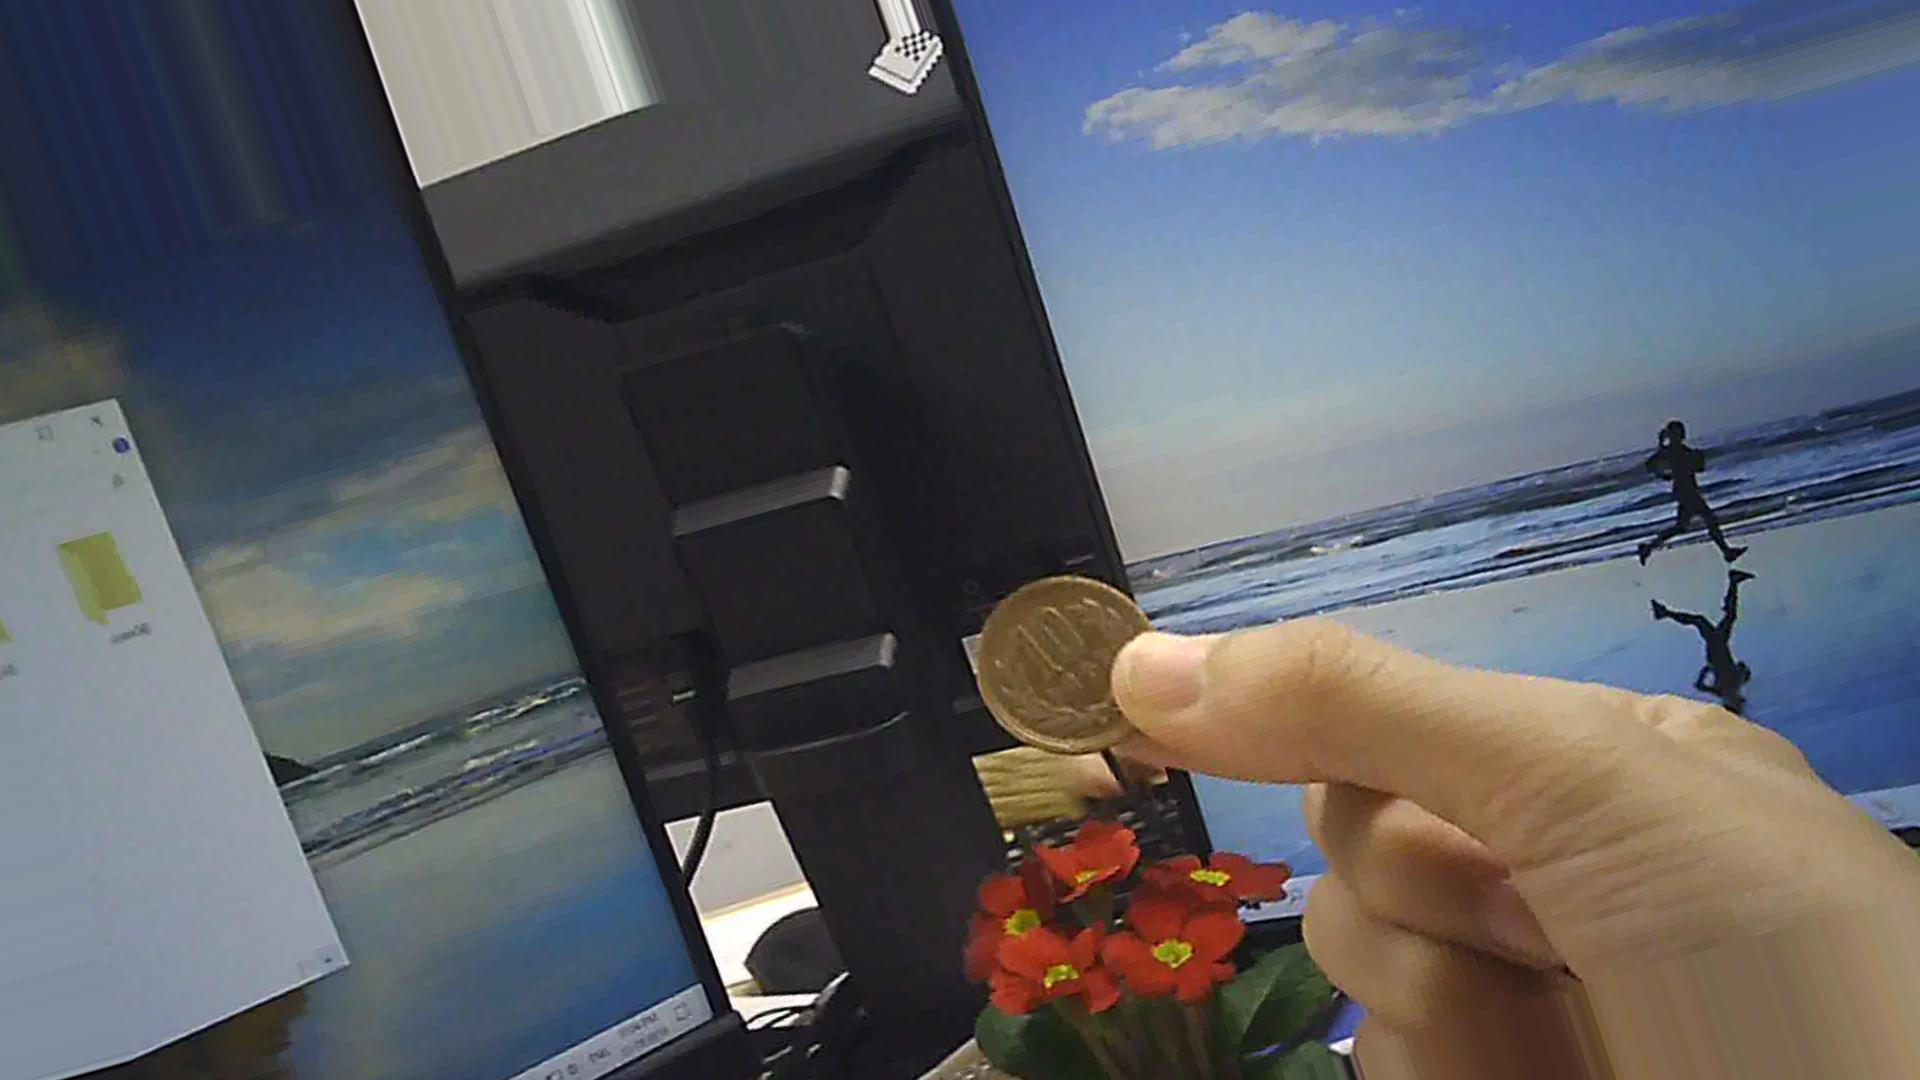10 Yen: (973, 556, 1174, 756)
